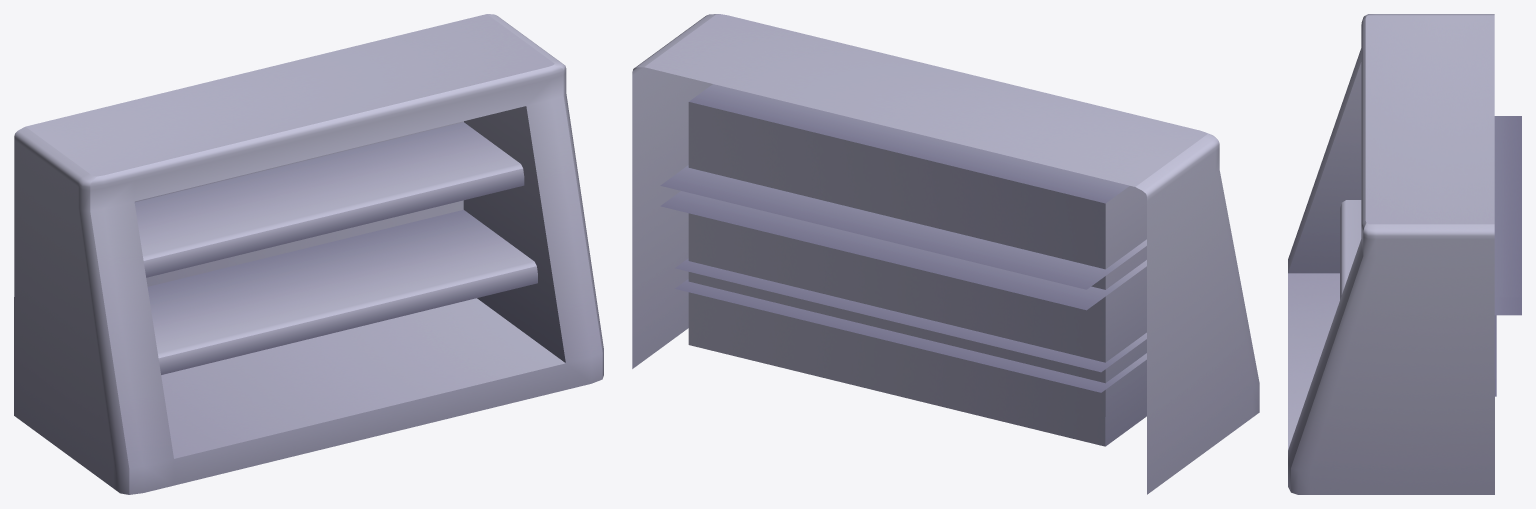
File: asset_TiltedLowshelf 1.fbx
3 views of the same model, side by side, from view 1: azimuth 30°, elevation 25°; view 2: azimuth 150°, elevation 25°; view 3: azimuth 270°, elevation 25° (orthographic). The views are drawn at different scales.
Parts seen in each view (by area): view 1: asset_TiltedLowshelf; view 2: asset_TiltedLowshelf; view 3: asset_TiltedLowshelf.
Part boxes in pixels (box(x1,y1,x2,y2)): asset_TiltedLowshelf: box(14, 14, 603, 494); asset_TiltedLowshelf: box(632, 14, 1259, 494); asset_TiltedLowshelf: box(1288, 14, 1521, 494).
Bounding box in the file's own units: 163 × 92.45 × 73.75.
1 material, 1 textured.
